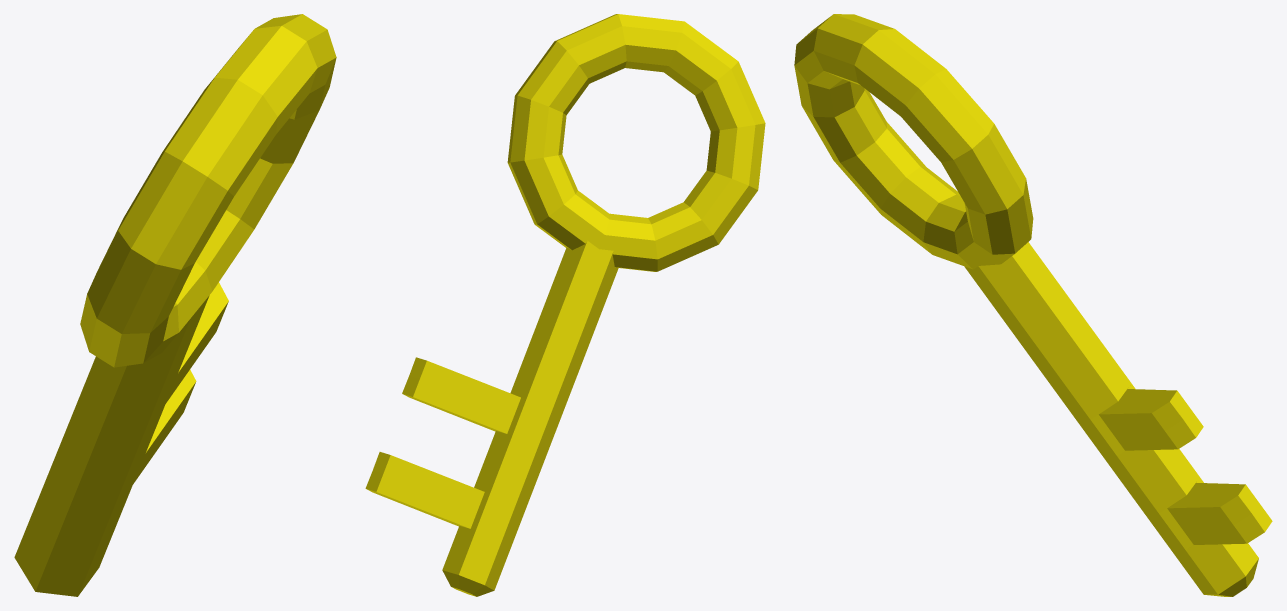
File: Key.fbx
The picture shows the model from 3 angles, left to right: view 1: azimuth 30°, elevation 25°; view 2: azimuth 150°, elevation 25°; view 3: azimuth 270°, elevation 25°; orthographic projection. The views are drawn at different scales.
Visible parts, largest first — view 1: Key; view 2: Key; view 3: Key.
Boxes of the visible parts, bbox=[...] form: Key: bbox=[14, 14, 336, 596]; Key: bbox=[365, 14, 765, 596]; Key: bbox=[794, 14, 1272, 596].
Size of the model in its own units: 33.66 by 69.06 by 53.
